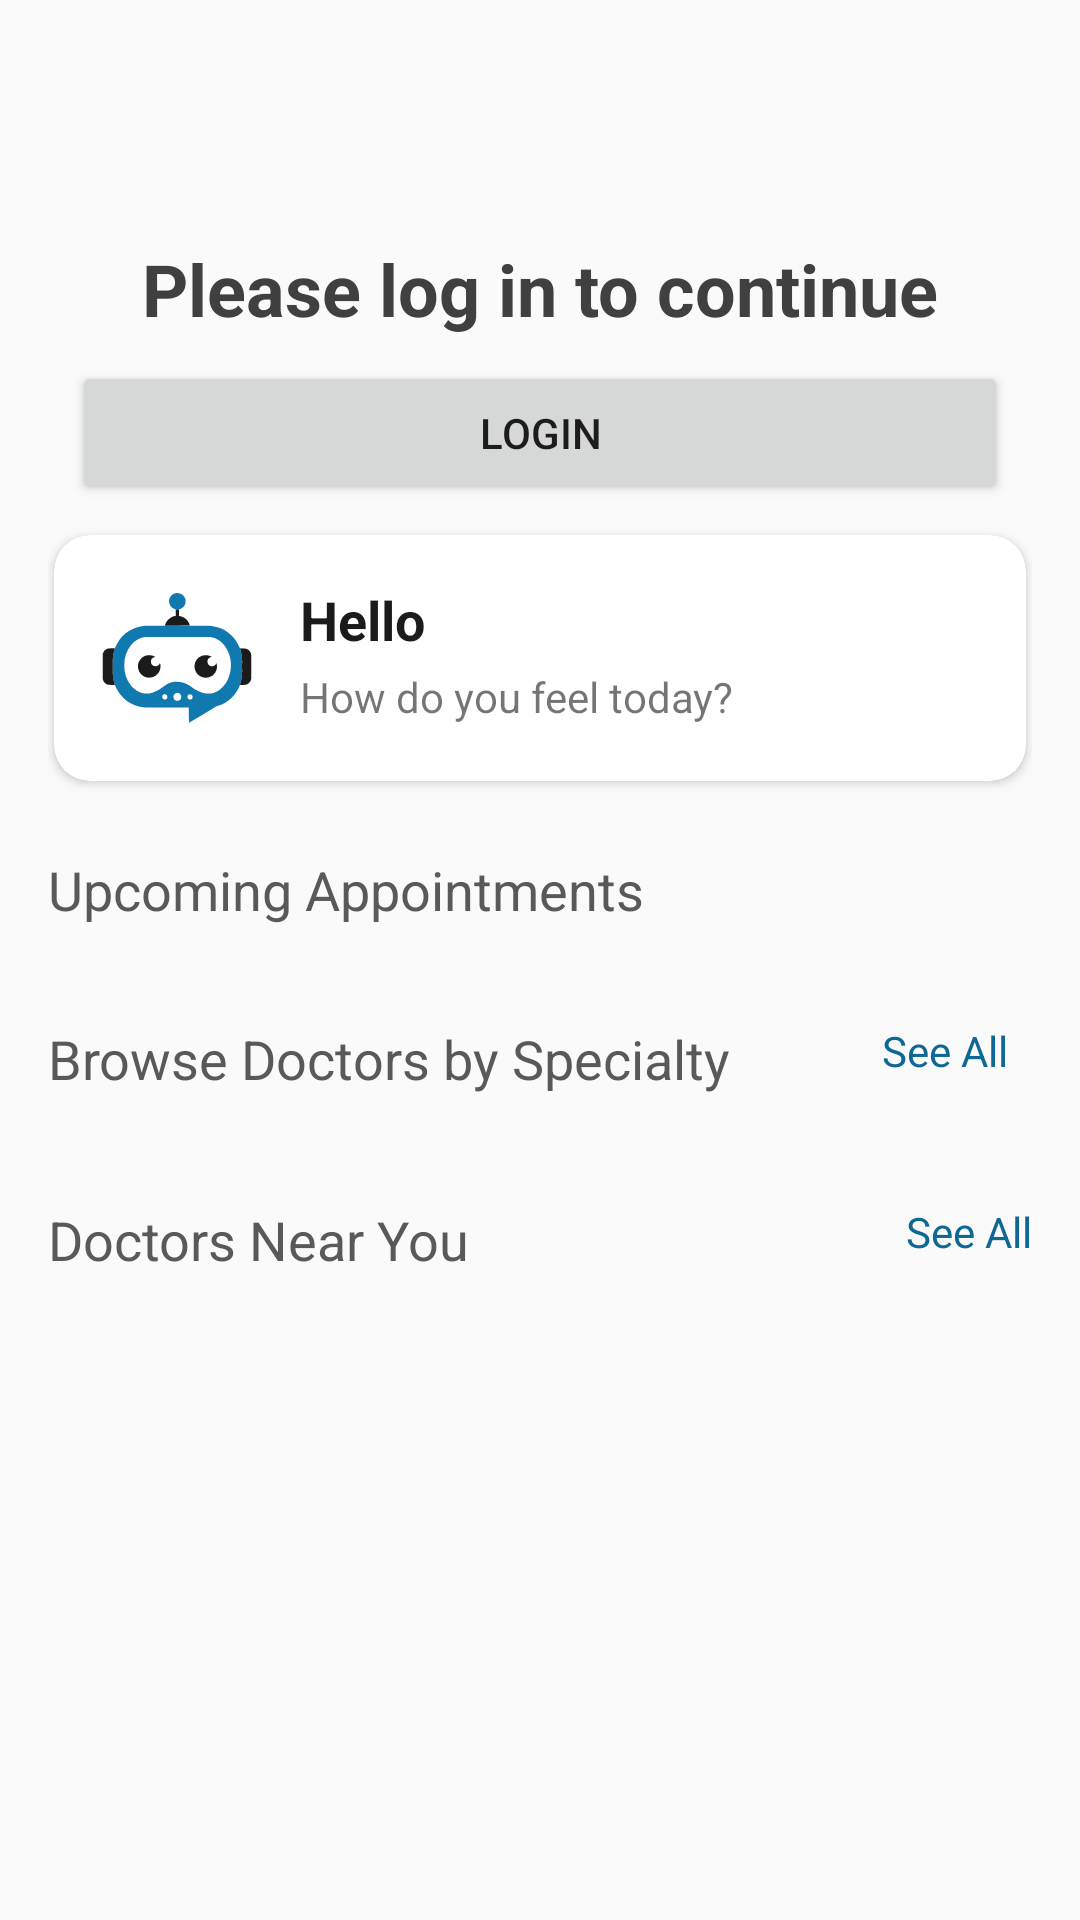

Point at icon controls on the screen. Image size 1080px x 1920px, points as [x,y].
illustration chatbot: [177,658]
